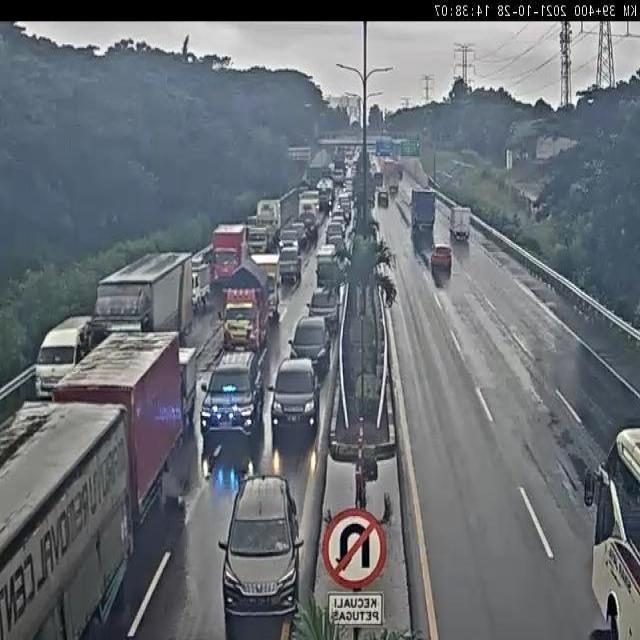Car: (218, 471, 303, 636), (583, 421, 640, 640), (199, 348, 267, 442), (268, 355, 319, 435), (287, 315, 331, 380), (307, 287, 340, 330), (278, 245, 303, 285), (285, 223, 309, 253), (429, 241, 453, 271), (277, 228, 300, 254), (326, 231, 346, 255), (377, 190, 390, 206)
Truck: (0, 397, 137, 640), (49, 324, 184, 521), (90, 249, 195, 346), (215, 256, 270, 348), (212, 224, 252, 289), (249, 252, 282, 321), (179, 348, 197, 422), (410, 188, 438, 232), (245, 216, 275, 256), (191, 253, 212, 310), (297, 192, 319, 239), (316, 244, 340, 287), (256, 199, 280, 237), (449, 204, 472, 243), (314, 176, 336, 215), (388, 169, 399, 195), (374, 171, 384, 186)
Van: (32, 312, 92, 399)
